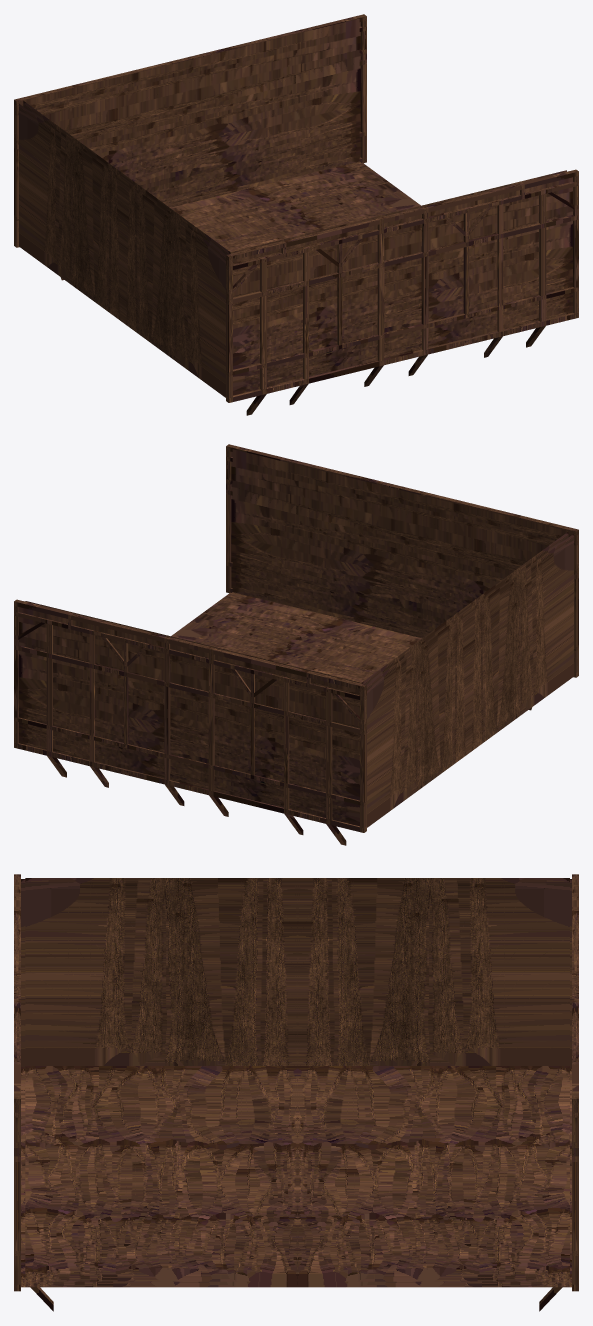
File: Inside_outwall.fbx
3 views of the same model, one above another, from view 1: azimuth 30°, elevation 25°; view 2: azimuth 150°, elevation 25°; view 3: azimuth 270°, elevation 25° (orthographic). The views are drawn at different scales.
Visible parts, largest first — view 1: Floor_one.007, Floor_one.008, 立方体.028; view 2: Floor_one.007, Floor_one.008, 立方体.028; view 3: Floor_one.008, Floor_one.007, 立方体.028.
Part boxes in pixels (x1,y1,x2,y2): Floor_one.007: (19,22,572,397); Floor_one.008: (23,18,566,254); 立方体.028: (14,14,578,415); Floor_one.007: (19,452,573,827); Floor_one.008: (25,449,568,684); 立方体.028: (14,444,578,845); Floor_one.008: (25,878,569,1281); Floor_one.007: (21,879,571,1287); 立方体.028: (14,874,578,1311).
Bounding box in the file's own units: 663 × 322 × 705.
